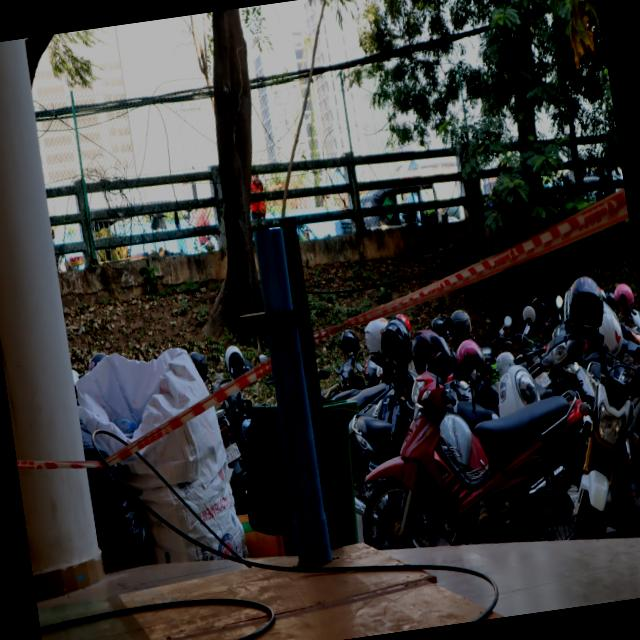pole: (225, 215, 332, 378)
